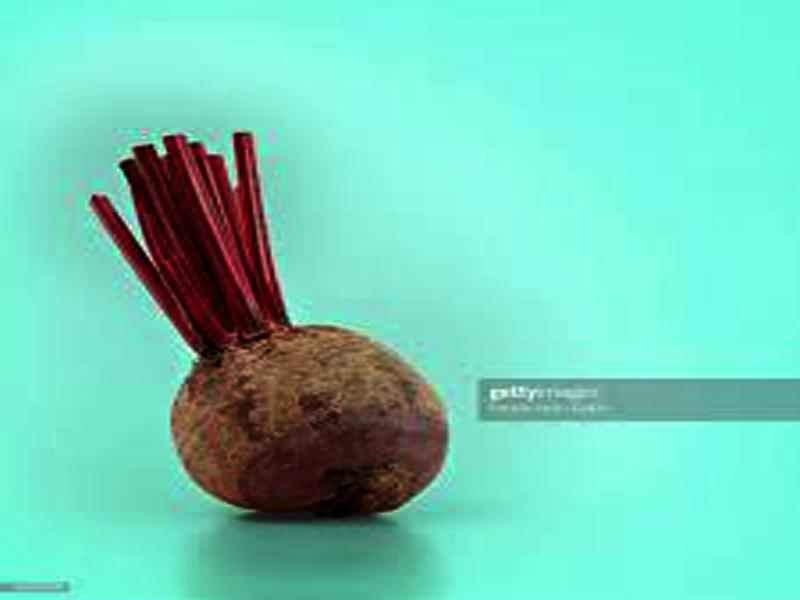Beet: (92, 131, 448, 517)
